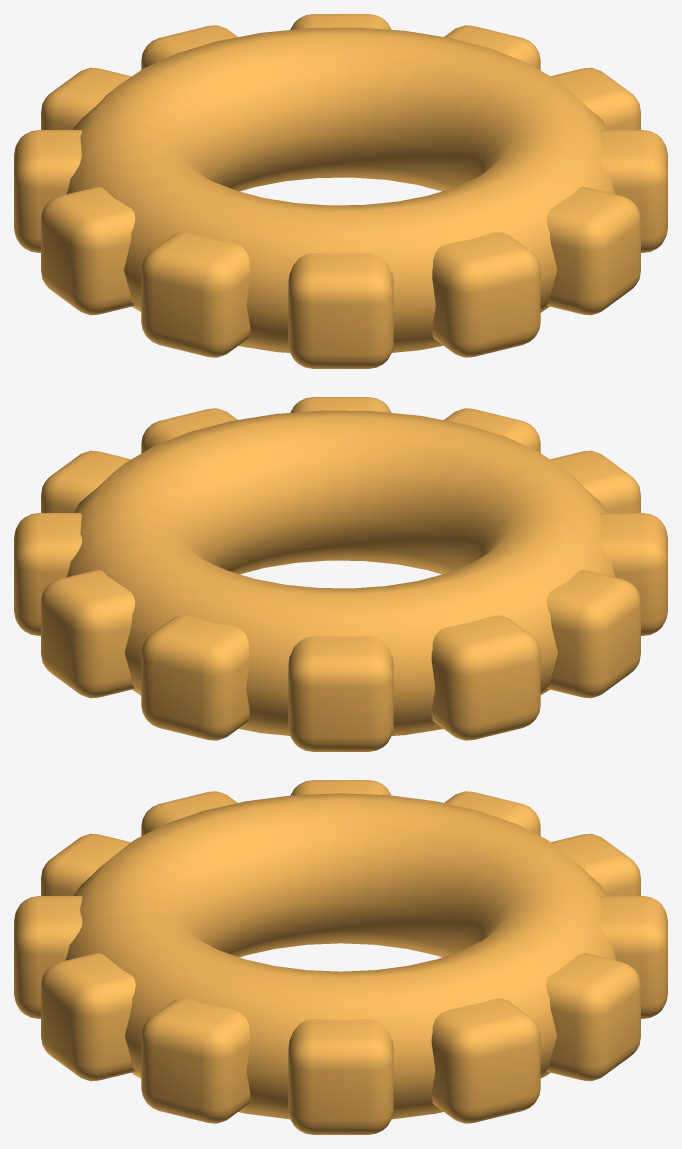
The model's file is gear.glb.
3 views of the same model, one above another, from view 1: azimuth 30°, elevation 25°; view 2: azimuth 150°, elevation 25°; view 3: azimuth 270°, elevation 25° (orthographic).
Visible parts, largest first — view 1: Gear rim; view 2: Gear rim; view 3: Gear rim.
Boxes of the visible parts, x1,y1,x2,y2 form: Gear rim: (14, 14, 667, 368); Gear rim: (14, 397, 667, 751); Gear rim: (14, 780, 667, 1134).
Size of the model in its own units: 2.17 by 0.5 by 2.17.
